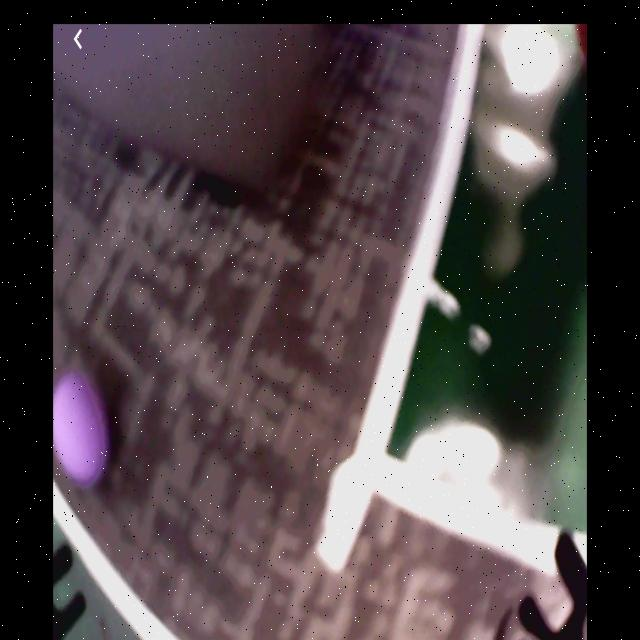ball: (56, 373, 111, 487)
